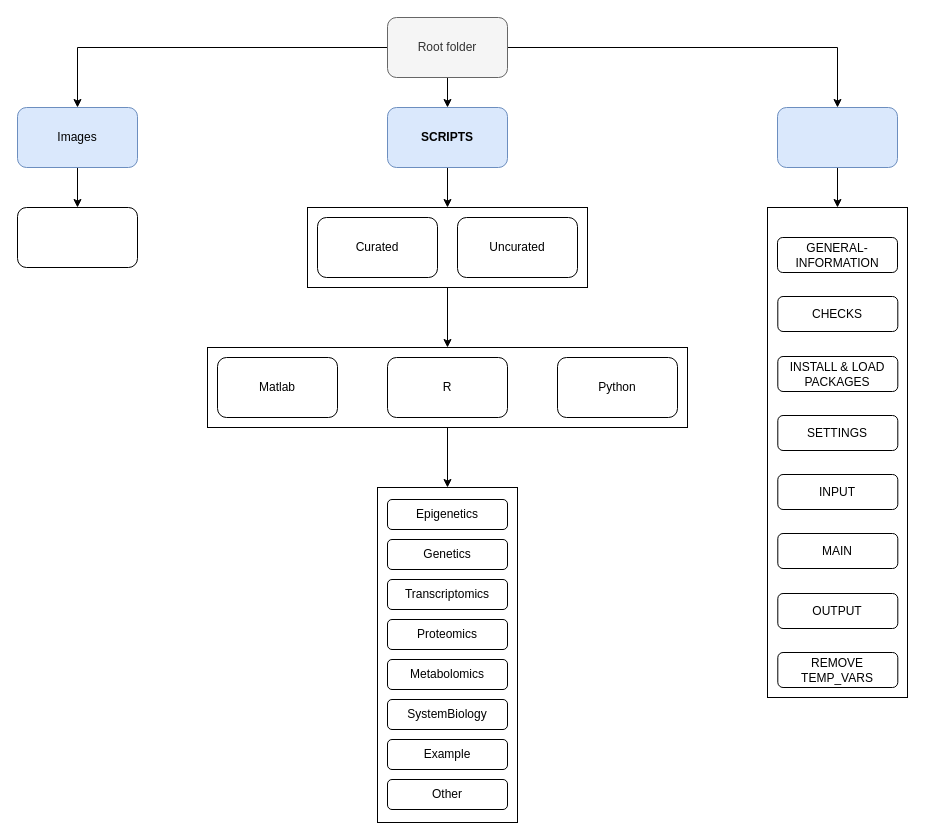
Some shapes in this 925 by 840 pixel diagram are drawn without their labels. Here are the shapes that lost their labels. From the top down, the box of each, then its label:
(776, 106, 898, 168): Script-essentials
(16, 206, 138, 268): Flowcharts
(766, 206, 908, 698): SCRIPT-FORMAT.MD
